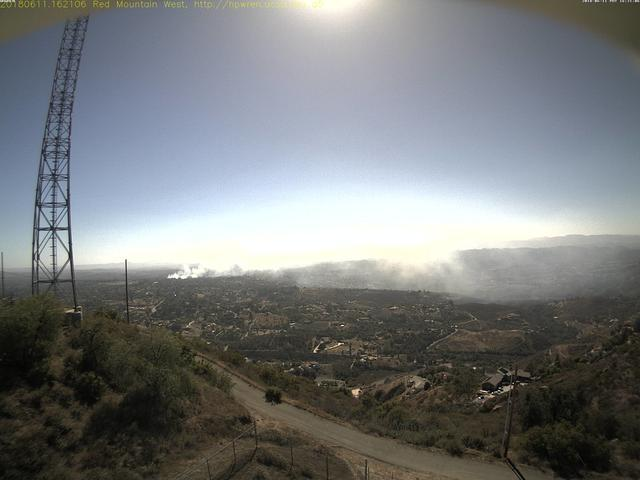smoke: (165, 242, 467, 288)
